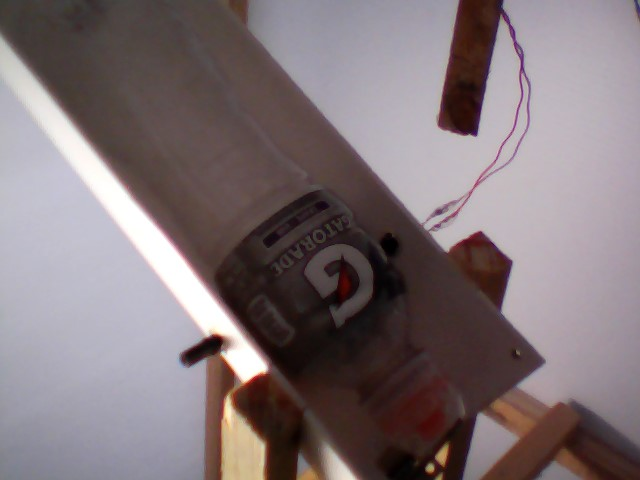plastico: (28, 1, 470, 458)
